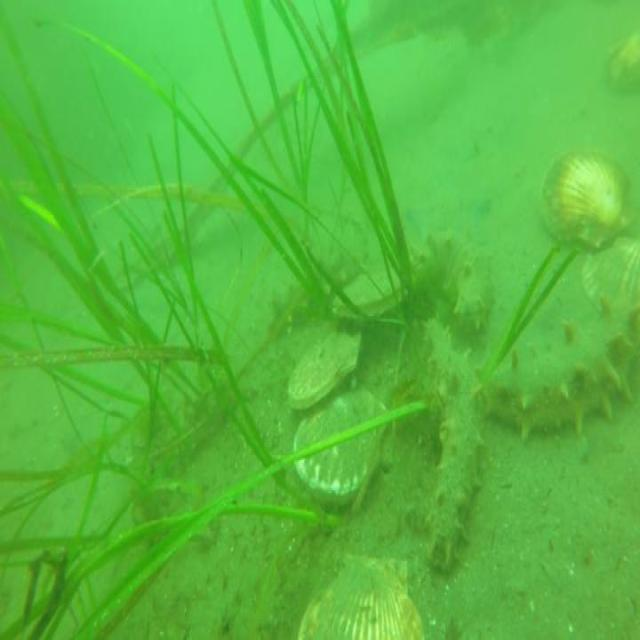holothurian: (488, 296, 640, 440), (421, 314, 487, 574), (414, 216, 501, 340), (266, 234, 368, 332)
scallop: (289, 548, 431, 640), (293, 387, 391, 507), (538, 139, 636, 258), (284, 322, 364, 414), (330, 250, 420, 327), (579, 235, 640, 325), (605, 20, 640, 106)
waterweeds: (0, 0, 430, 640)
